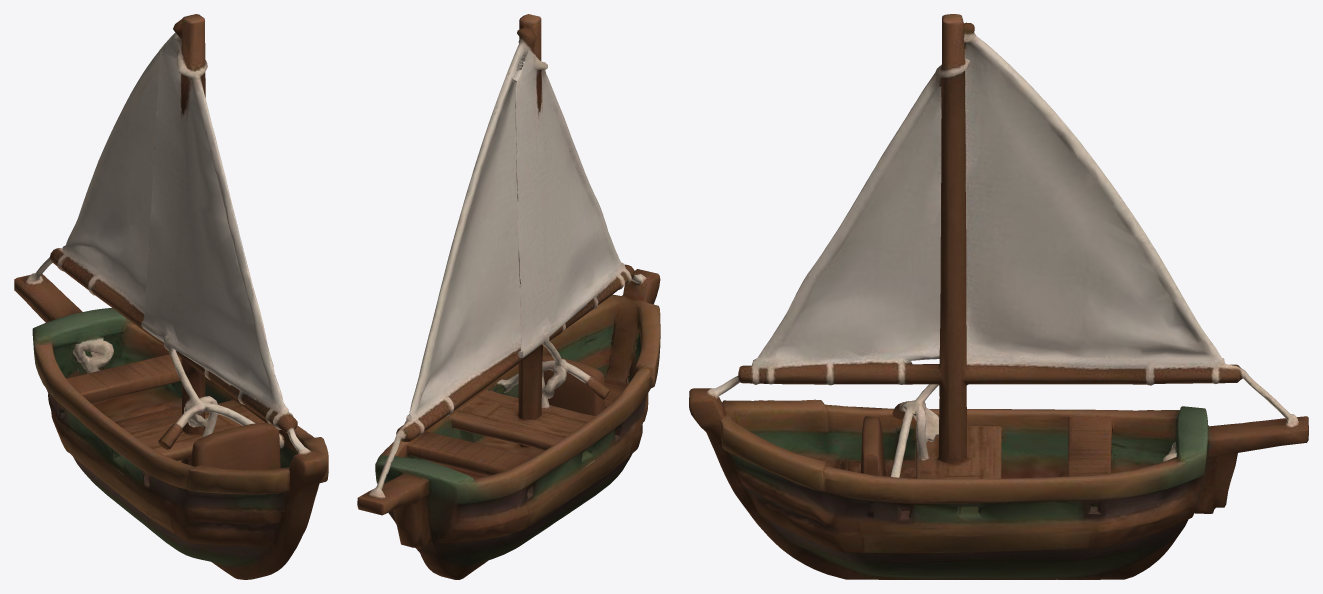
The model's file is boat.glb.
The picture shows the model from 3 angles, left to right: view 1: azimuth 30°, elevation 25°; view 2: azimuth 150°, elevation 25°; view 3: azimuth 270°, elevation 25°; orthographic projection. The views are drawn at different scales.
Parts seen in each view (by area): view 1: RETOPO; view 2: RETOPO; view 3: RETOPO.
Part boxes in pixels (x1,y1,x2,y2): RETOPO: (14, 14, 328, 579); RETOPO: (357, 14, 660, 579); RETOPO: (689, 14, 1308, 579).
Bounding box in the file's own units: 0.2935 × 0.9952 × 1.
Materials: 1 (1 with a texture image).
